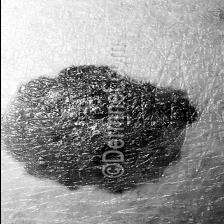Potentially Malignant Skin Tumors: (0, 61, 198, 195)
